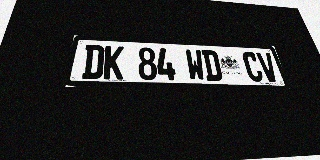4: (156, 48, 176, 80)
8: (138, 47, 157, 80)
C: (241, 52, 265, 82)
D: (81, 45, 105, 79), (201, 50, 223, 81)
K: (103, 45, 124, 79)
V: (256, 52, 280, 82)
W: (185, 49, 206, 81)
